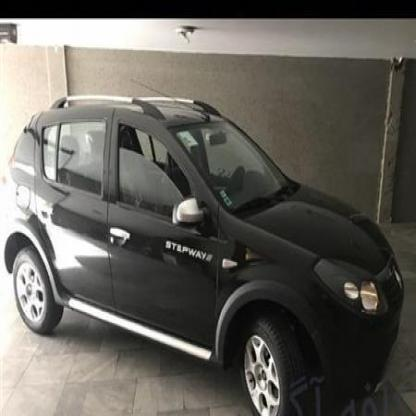Car: (0, 83, 389, 416)
